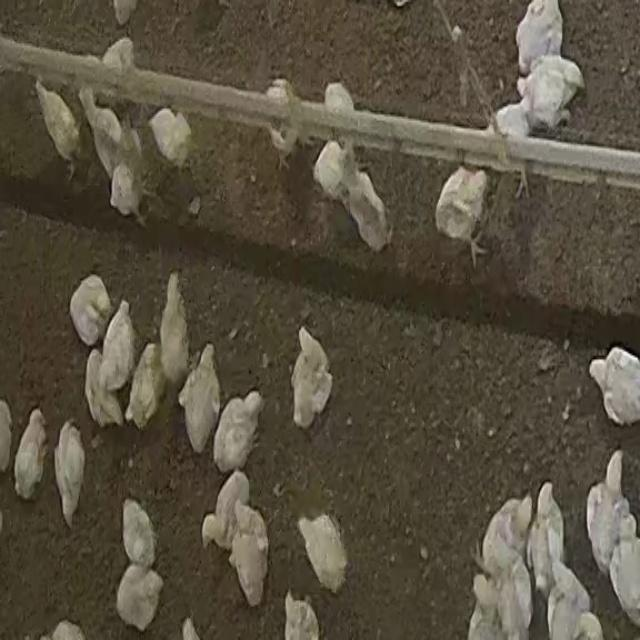chicken: (431, 167, 495, 271), (208, 384, 270, 478), (286, 322, 338, 431), (294, 509, 354, 595), (33, 78, 83, 181), (342, 161, 394, 258), (476, 494, 536, 575), (178, 344, 220, 451), (586, 456, 623, 576), (228, 502, 270, 607), (526, 482, 563, 599), (588, 347, 640, 428), (158, 273, 192, 392), (99, 301, 138, 401), (544, 556, 592, 637), (125, 343, 166, 430), (54, 421, 87, 525), (117, 494, 160, 569), (13, 411, 48, 503), (115, 563, 163, 629), (69, 275, 112, 348), (86, 348, 124, 430), (147, 106, 193, 173), (499, 552, 534, 634), (284, 593, 319, 640)
